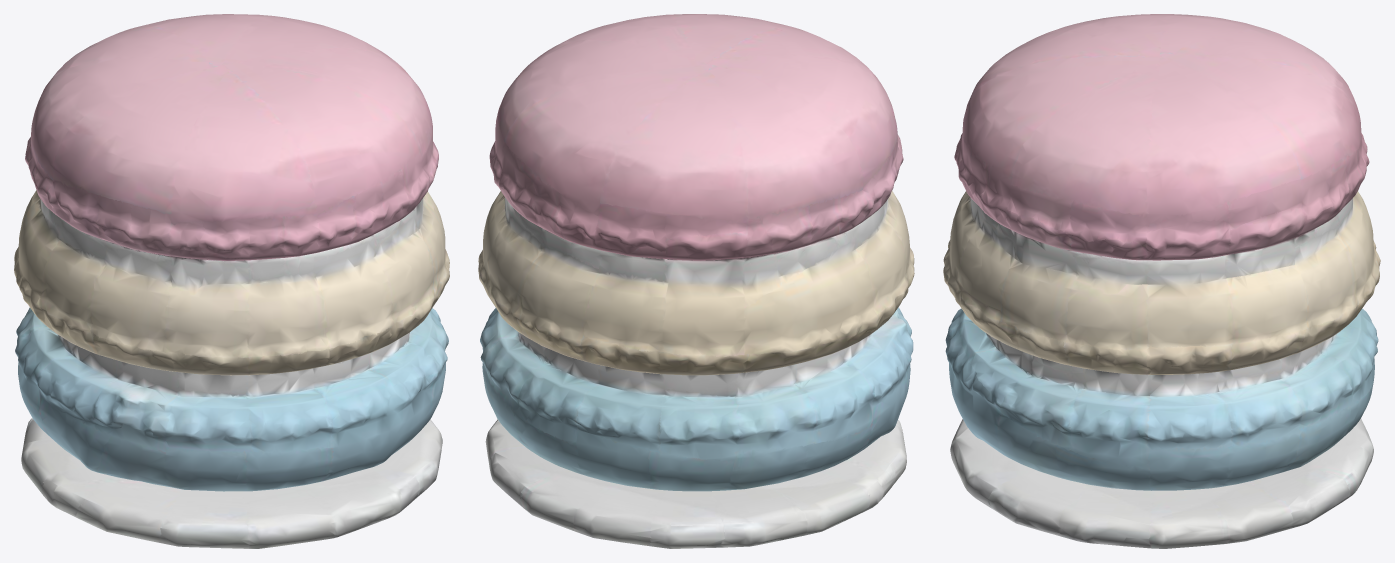
The model's file is macaron_stack.glb.
3 views of the same model, side by side, from view 1: azimuth 30°, elevation 25°; view 2: azimuth 150°, elevation 25°; view 3: azimuth 270°, elevation 25° (orthographic).
Size of the model in its own units: 1.85 by 1.89 by 1.85.
Materials: 1 (1 with a texture image).
